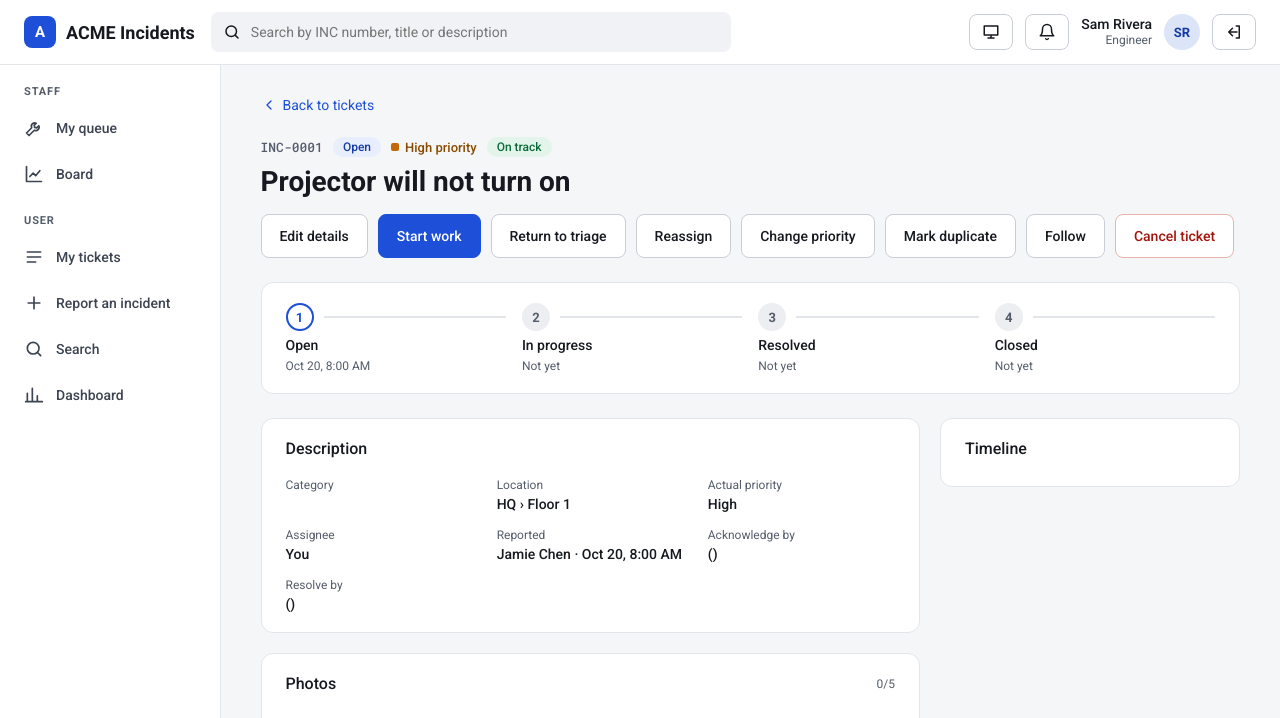
losing access after a change › goes to My tickets with a notice when the reload after any change is not found
The width and height of the screenshot is (1280, 718).
Check: the heading "Projector will not turn on" is shown, box [260,165,571,198]
Click the button "Start work". click: (429, 236)
box: [378,214,480,258]
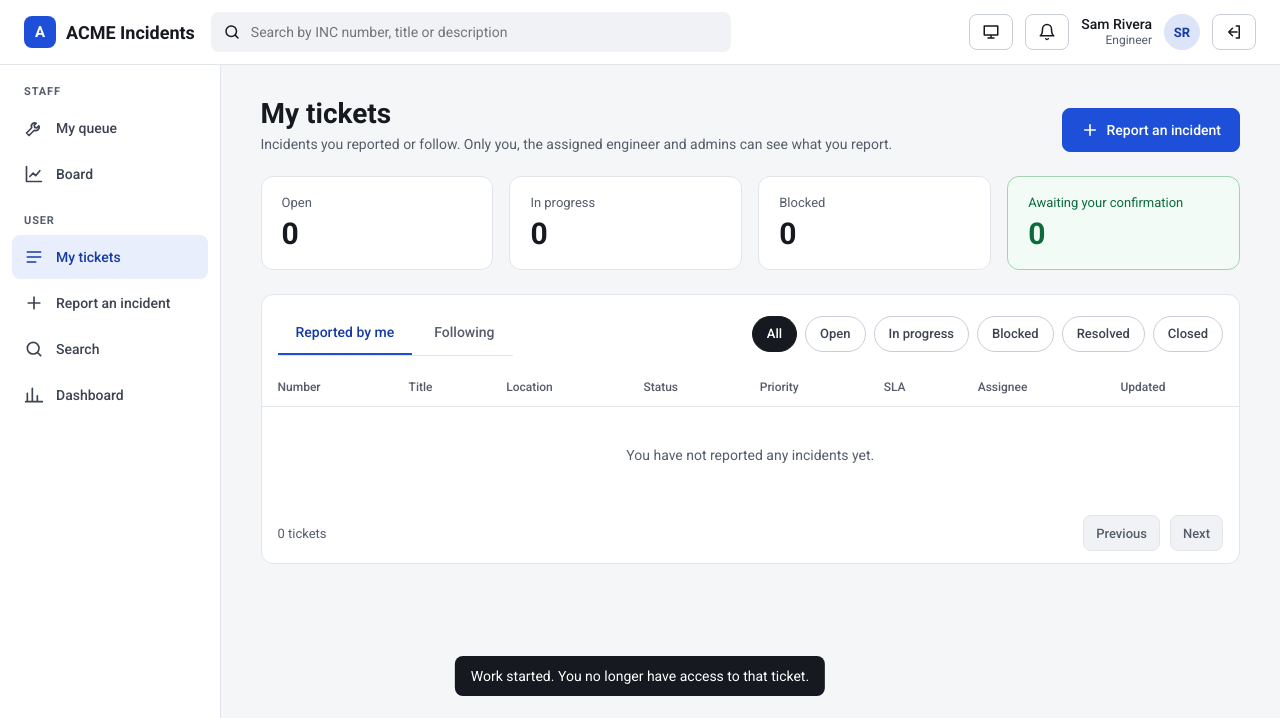
Check: the text "Work started. You no longer have access to that ticket." is shown, box [455,656,825,696]
